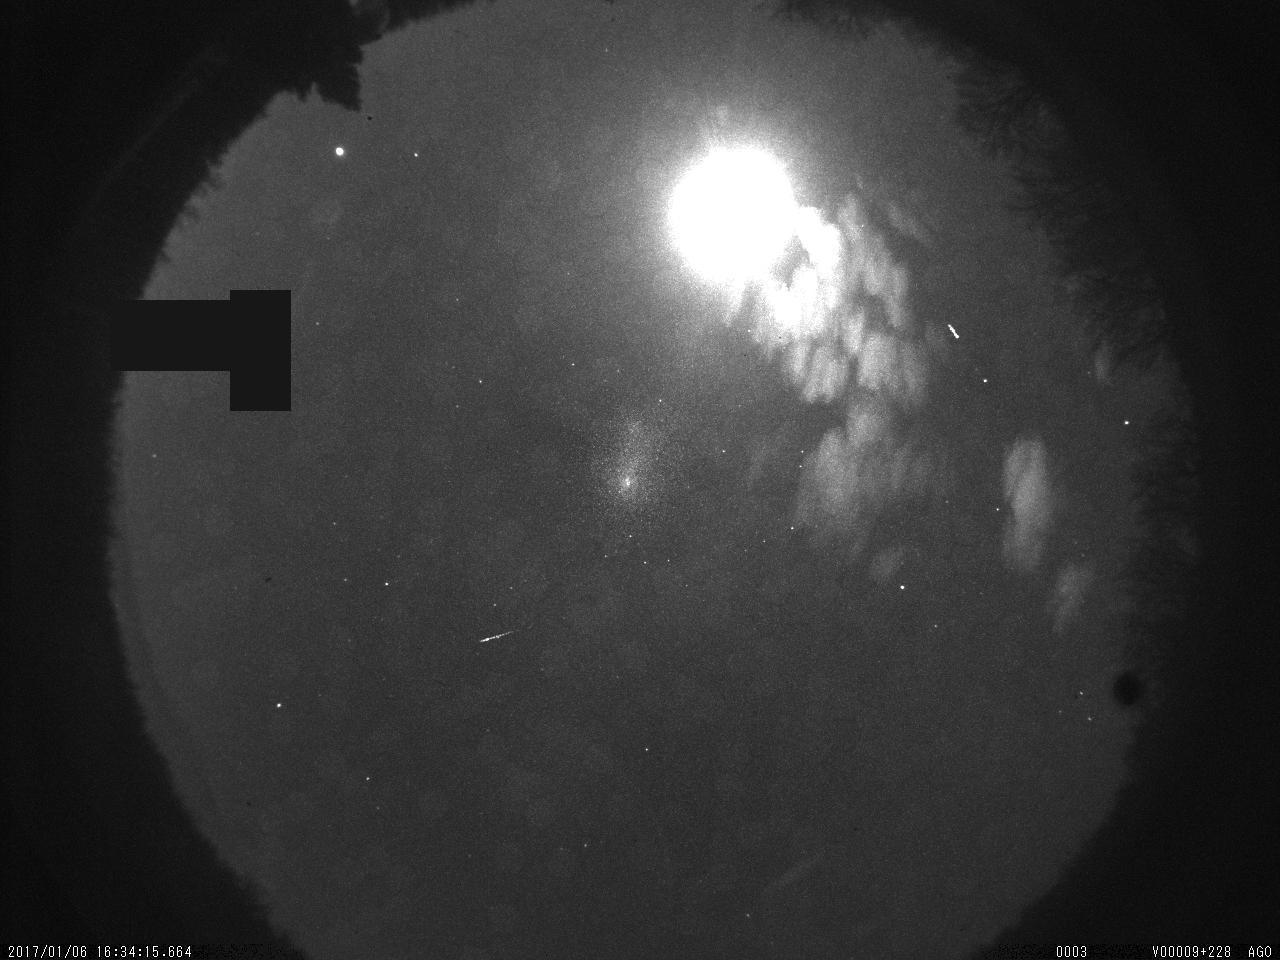Meteor: (472, 624, 526, 651)
